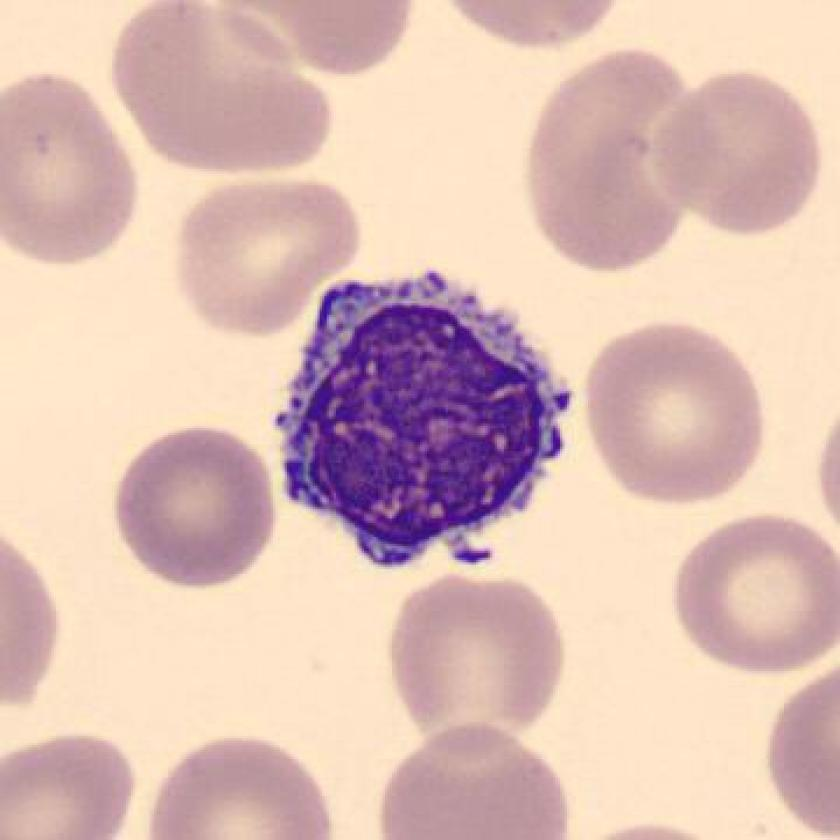lymphocyte: (260, 251, 584, 593)
